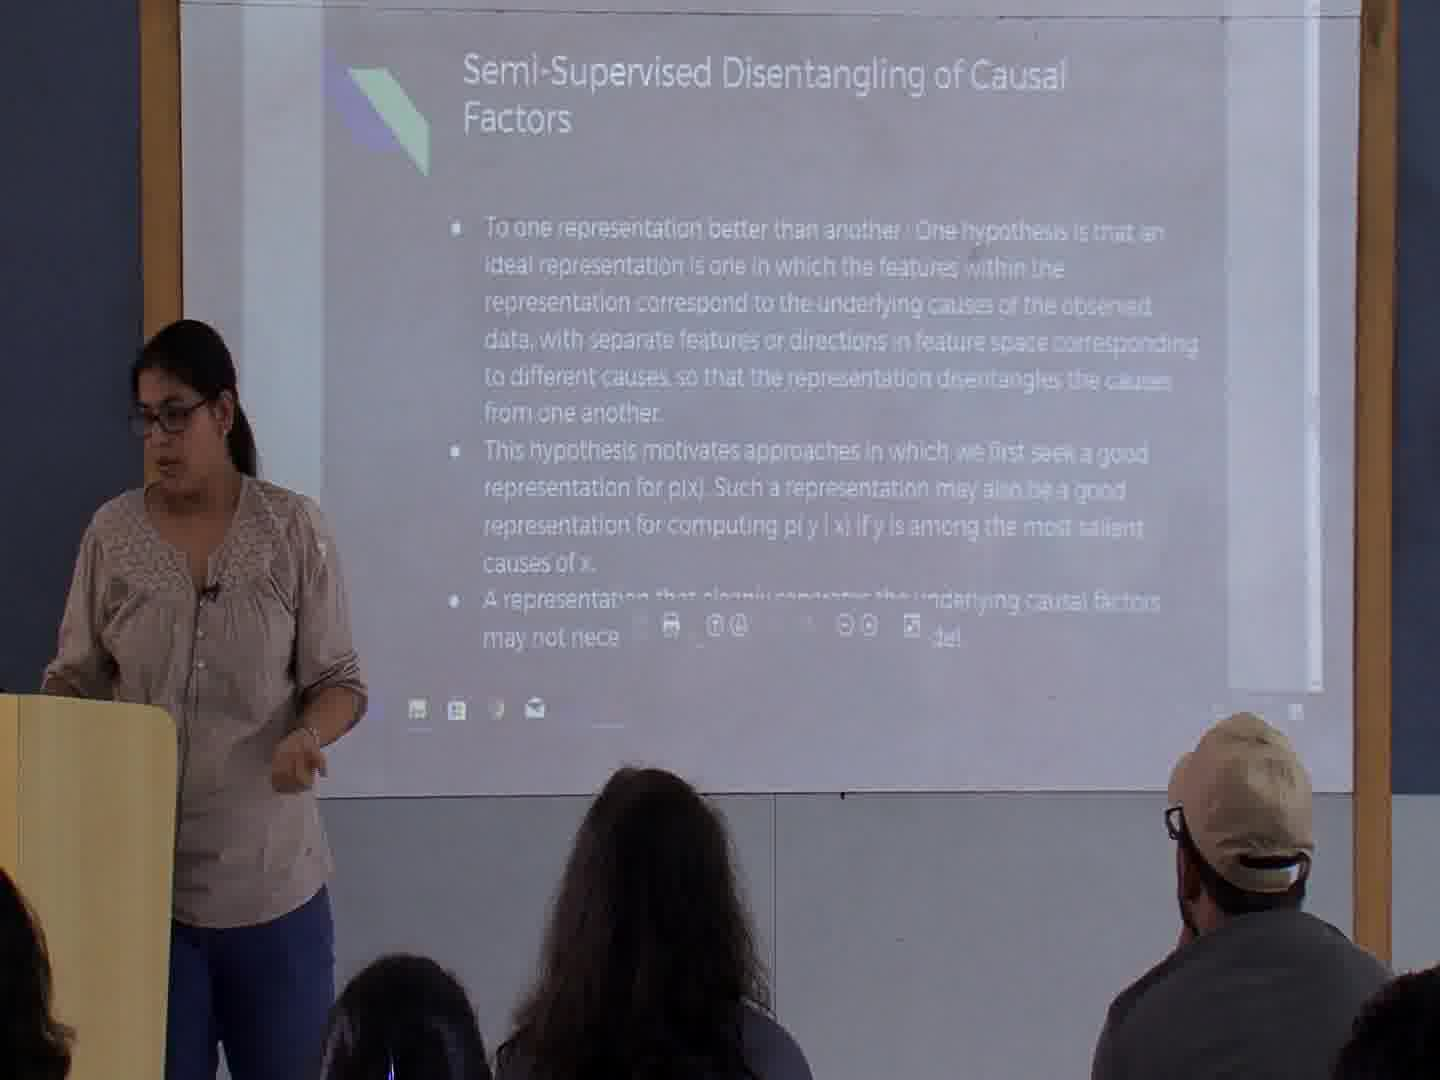slide: (242, 1, 1321, 729)
